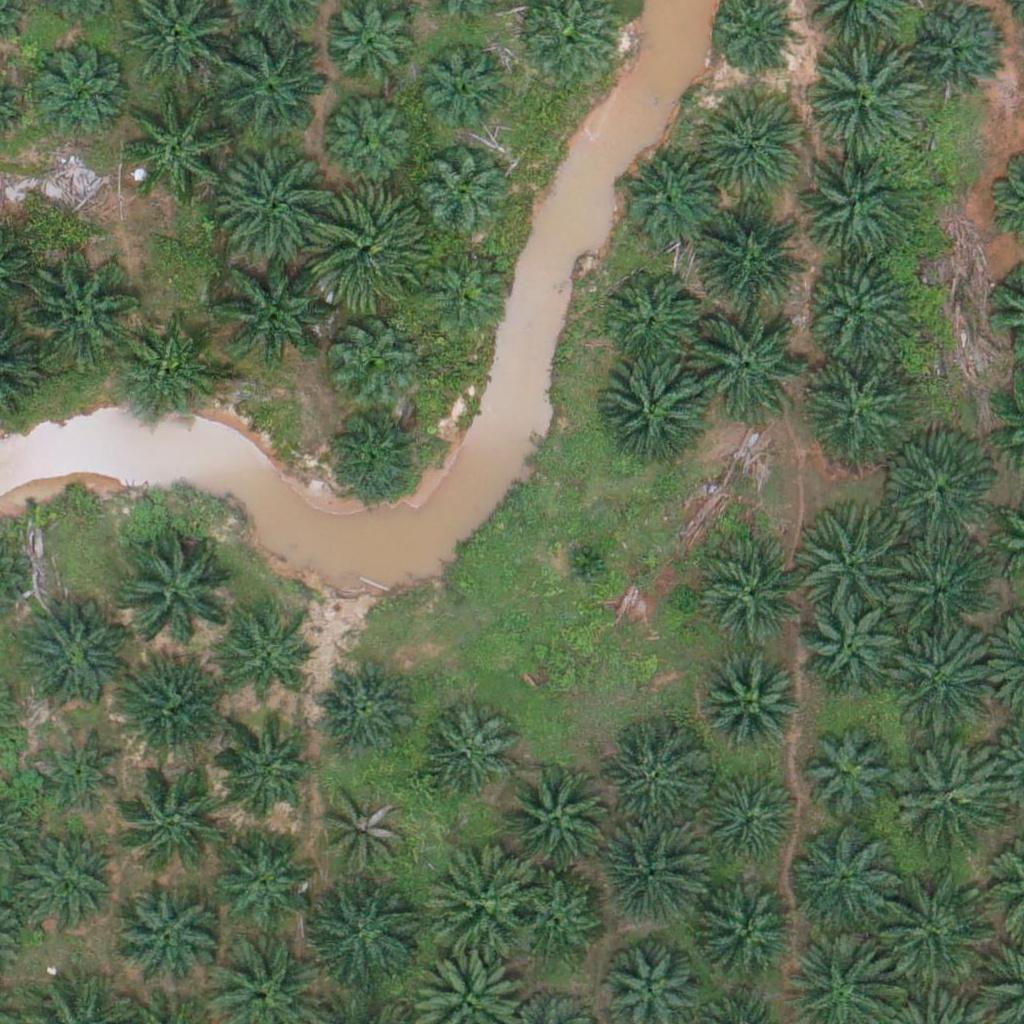Kelapa_Sawit: (889, 621, 1002, 735), (806, 248, 919, 362), (797, 153, 910, 267), (695, 89, 808, 203), (894, 739, 1007, 852), (594, 360, 707, 473), (595, 818, 708, 931), (120, 529, 233, 642), (14, 602, 127, 715), (311, 190, 424, 303), (216, 24, 329, 137), (787, 822, 899, 936), (119, 760, 231, 874), (694, 197, 806, 311), (223, 151, 335, 265), (887, 443, 999, 556), (876, 872, 988, 985), (798, 351, 910, 464), (798, 499, 910, 612), (686, 308, 798, 421), (500, 762, 612, 875), (423, 845, 535, 958), (308, 877, 420, 990), (212, 253, 324, 366), (110, 657, 222, 770), (23, 253, 135, 366), (812, 44, 924, 157), (124, 90, 236, 203), (799, 727, 899, 828), (800, 597, 900, 698), (601, 270, 701, 371), (416, 703, 516, 804), (212, 723, 312, 824), (114, 885, 214, 986), (14, 836, 114, 937), (412, 43, 512, 144), (620, 150, 720, 251), (890, 540, 990, 640), (701, 548, 801, 648), (702, 657, 802, 757), (702, 773, 802, 873), (698, 889, 798, 989), (604, 733, 704, 833), (322, 405, 422, 505), (313, 658, 413, 758), (212, 827, 312, 927), (119, 326, 219, 426), (322, 89, 422, 189), (28, 42, 128, 142), (512, 876, 600, 964), (326, 312, 414, 400), (37, 730, 125, 818), (423, 247, 511, 335), (322, 789, 409, 877), (224, 619, 311, 707), (421, 155, 508, 243), (559, 535, 609, 586)
